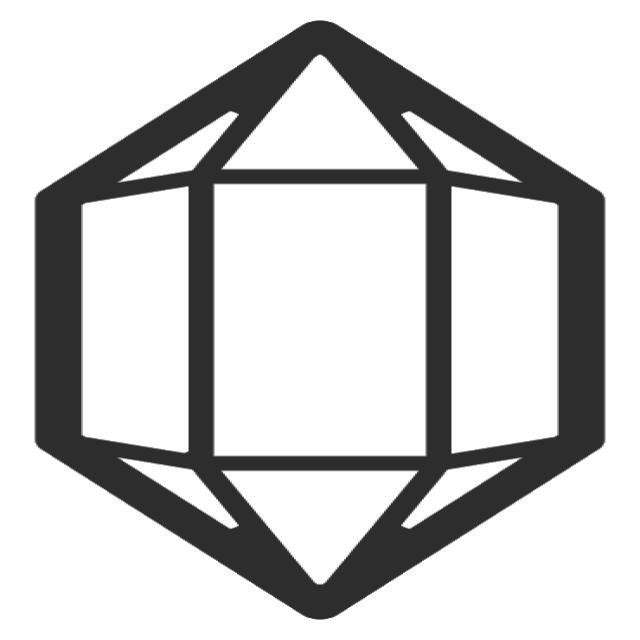crystal: (19, 16, 621, 633)
